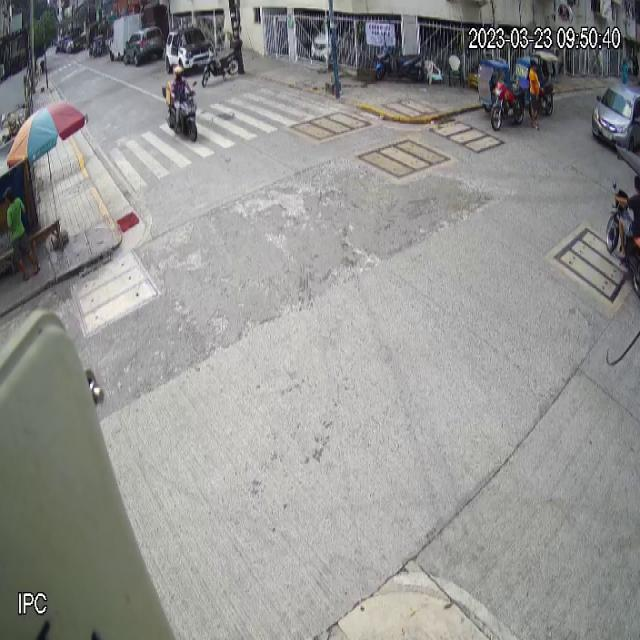Car: (591, 86, 640, 152)
Motorcycle: (161, 78, 198, 144)
Tricycle: (476, 59, 526, 129)
